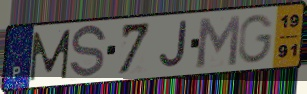7: (116, 21, 153, 77)
G: (237, 13, 276, 66)
J: (157, 19, 189, 71)
M: (195, 13, 243, 69), (28, 28, 73, 84)
S: (68, 22, 109, 82)
